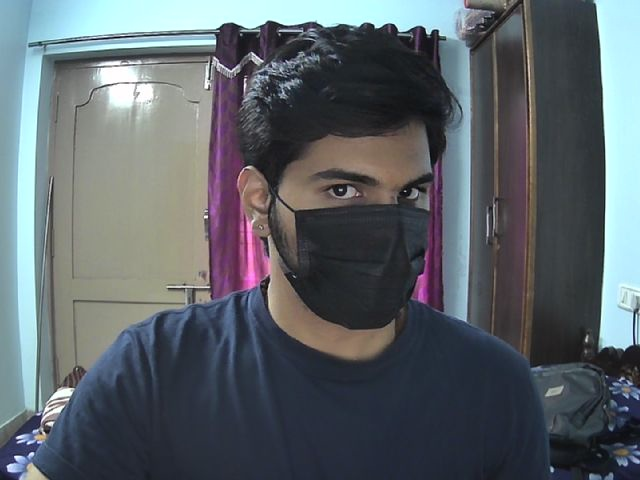Mask: (271, 202, 428, 330)
